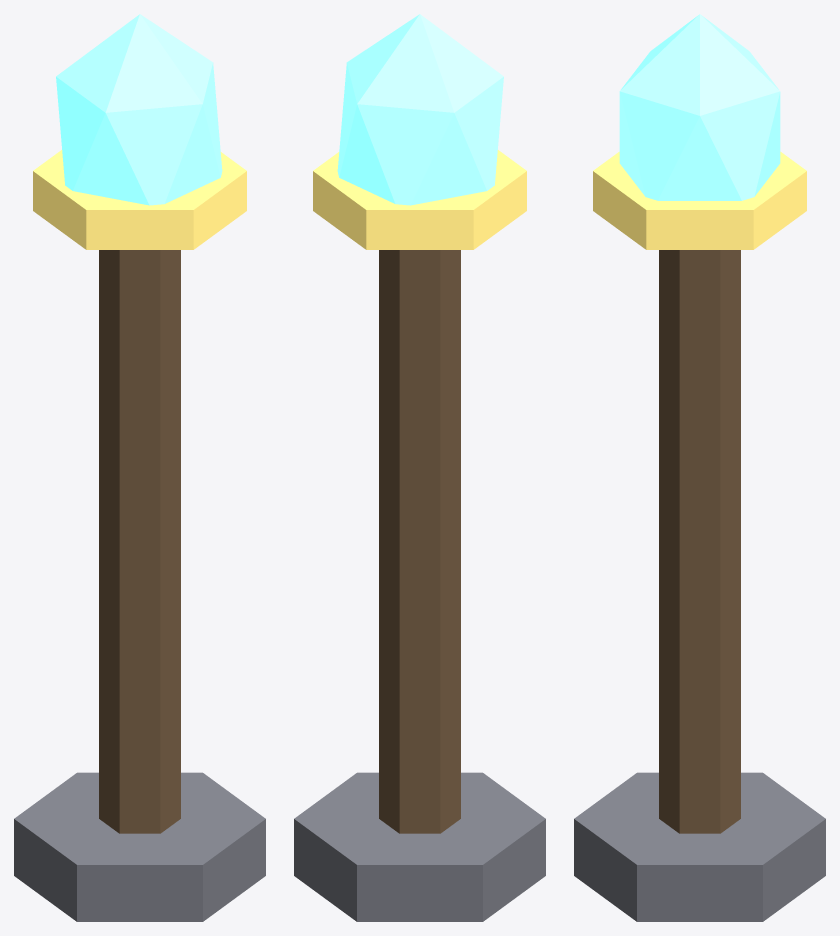
The model's file is totem.glb.
3 renders of one model, left to right at view 1: azimuth 30°, elevation 25°; view 2: azimuth 150°, elevation 25°; view 3: azimuth 270°, elevation 25°, orthographic.
Parts seen in each view (by area): view 1: TotemPole, TotemFoot, TotemGem, TotemCap; view 2: TotemPole, TotemFoot, TotemGem, TotemCap; view 3: TotemPole, TotemFoot, TotemGem, TotemCap.
Part boxes in pixels (x1,y1,x2,y2): TotemPole: (99,250,180,833); TotemFoot: (14,772,265,921); TotemGem: (56,14,222,205); TotemCap: (33,150,246,249); TotemPole: (379,250,460,833); TotemFoot: (294,772,545,921); TotemGem: (337,14,503,205); TotemCap: (313,150,526,249); TotemPole: (659,250,740,833); TotemFoot: (574,772,825,921); TotemGem: (619,14,780,200); TotemCap: (593,151,806,249).
Size of the model in its own units: 0.6928 by 3.02 by 0.8.
